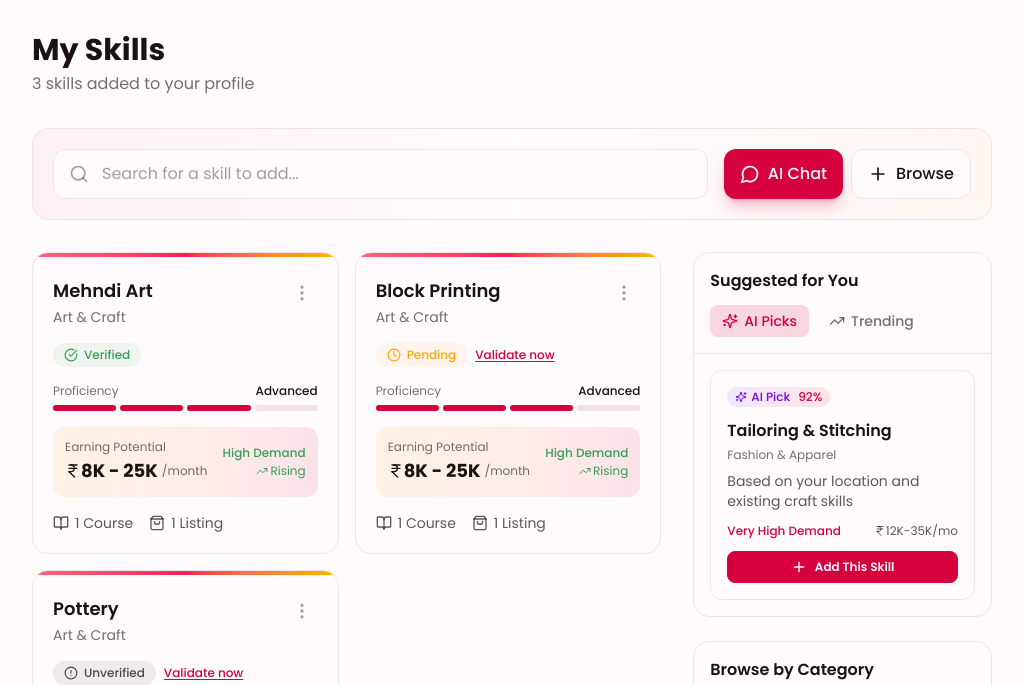
Test: Flow 6: Manage Skill Suggestions › switches to trending suggestions when Trending tab is clicked
This screenshot has width=1024, height=685.
Click the button "Trending" at (872, 321), box [817,305,926,337]
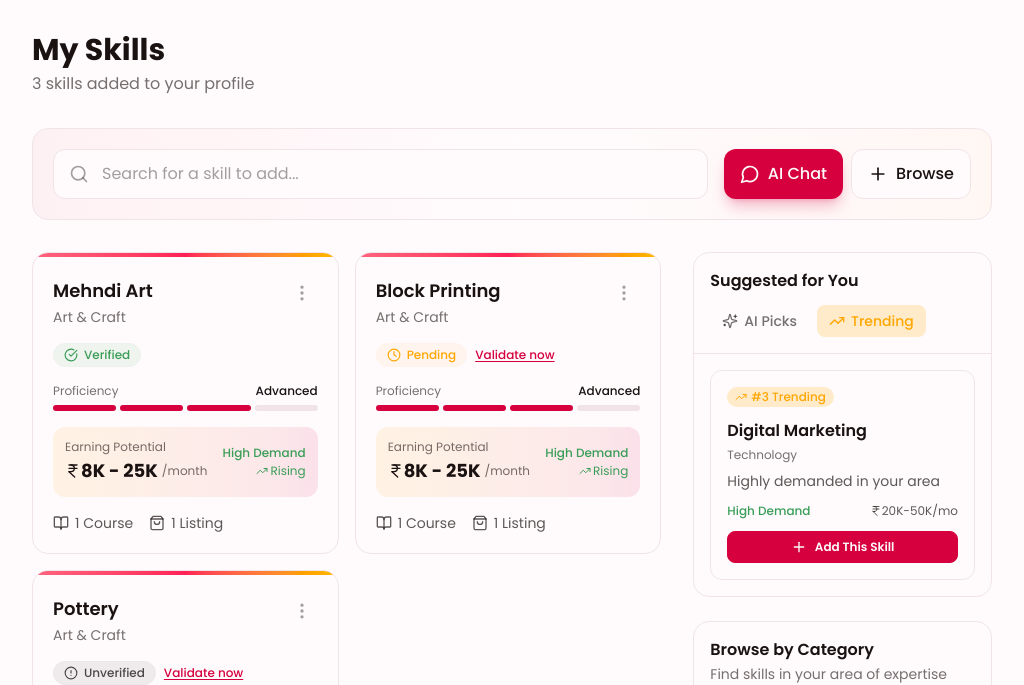
Now the heading "Digital Marketing" is shown, box [727,419,867,442]
